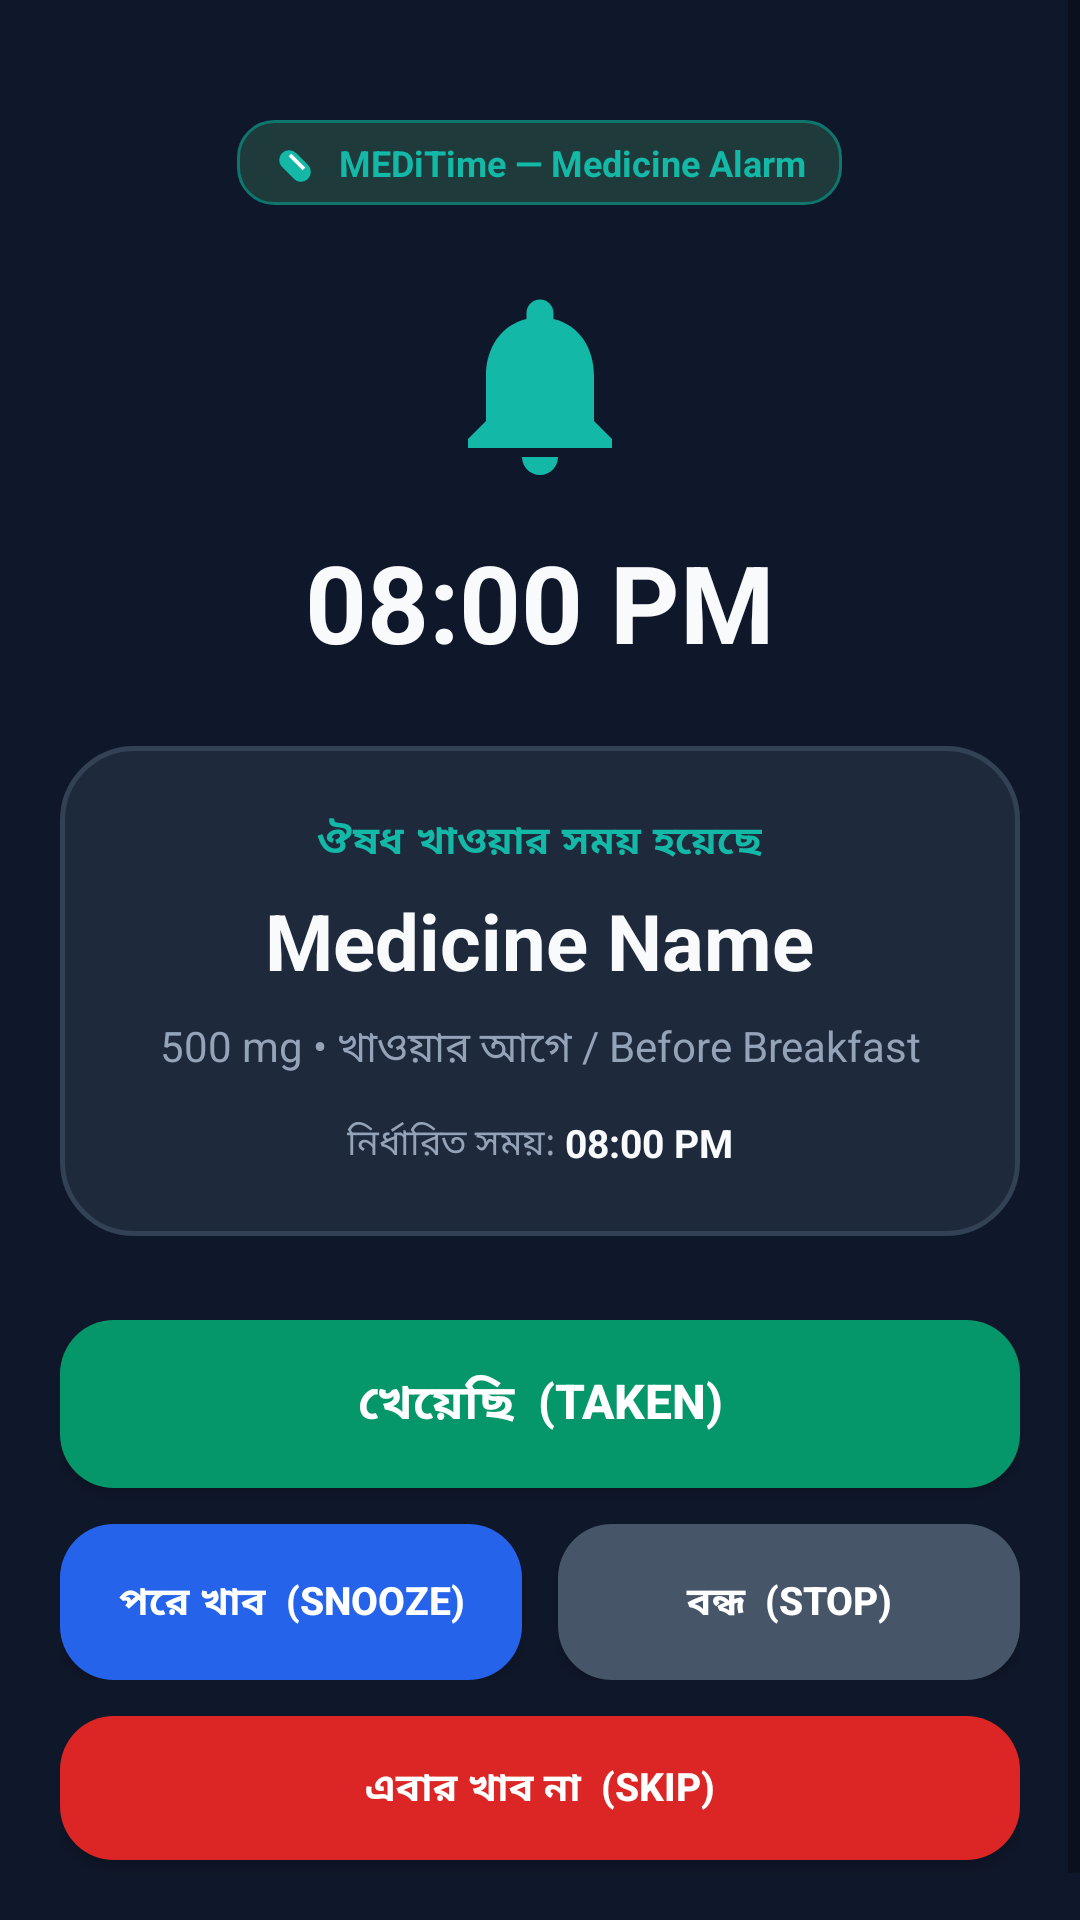

Locate icon controls on the screen. Image size 1080x1920, boxes as (x1, y1, x2, y2).
Ringing Alarm: (468, 299, 612, 475)
